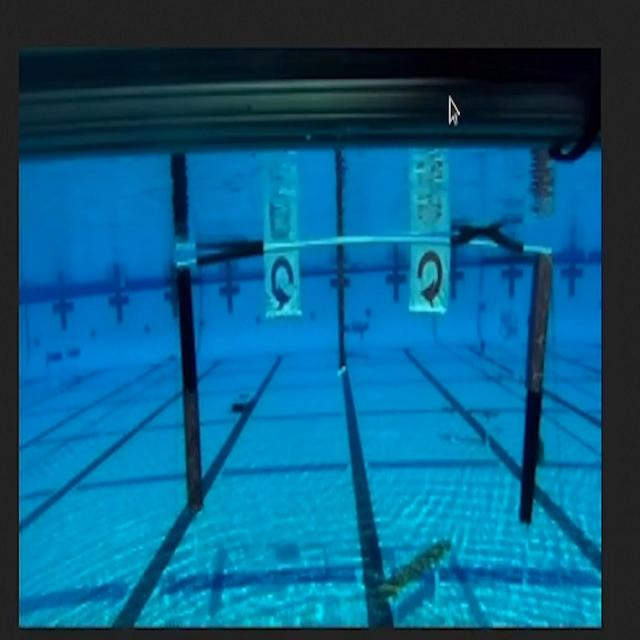Gate: (169, 232, 559, 534)
